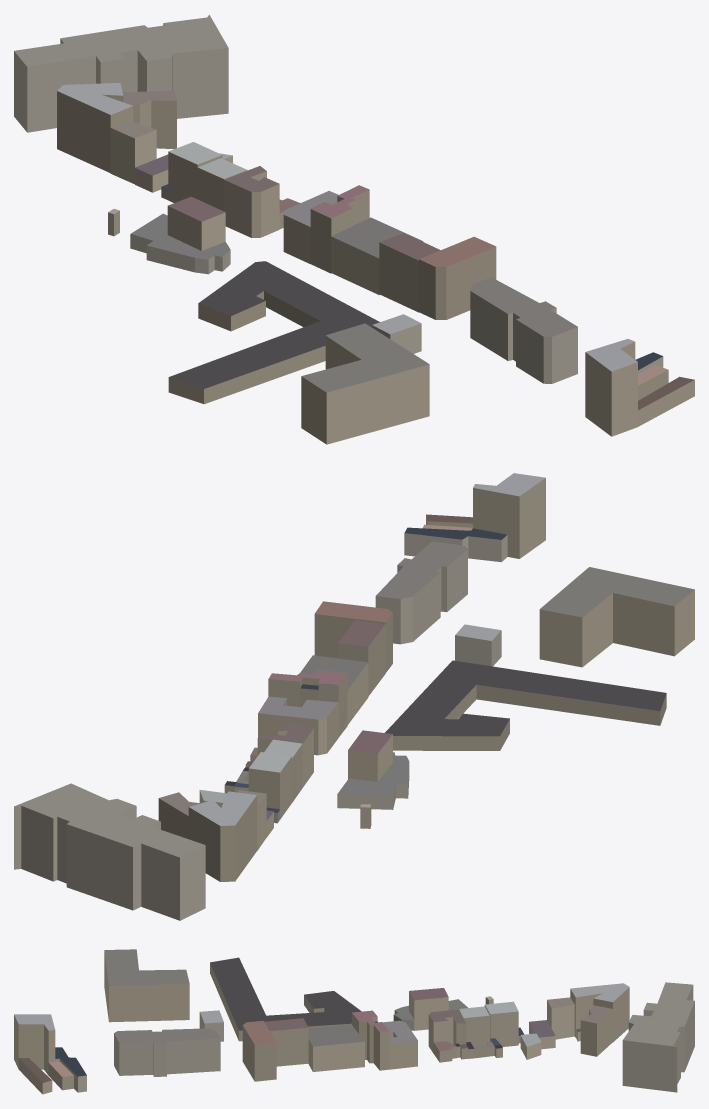
The picture shows the model from 3 angles, top to bottom: view 1: azimuth 30°, elevation 25°; view 2: azimuth 150°, elevation 25°; view 3: azimuth 270°, elevation 25°; orthographic projection. The views are drawn at different scales.
Parts seen in each view (by area): view 1: tuile; view 2: tuile; view 3: tuile.
Part boxes in pixels (x1=…): tuile: x1=14, y1=14, x2=694, y2=444; tuile: x1=14, y1=473, x2=694, y2=920; tuile: x1=14, y1=949, x2=694, y2=1094.
Size of the model in its own units: 144 by 27.29 by 318.
